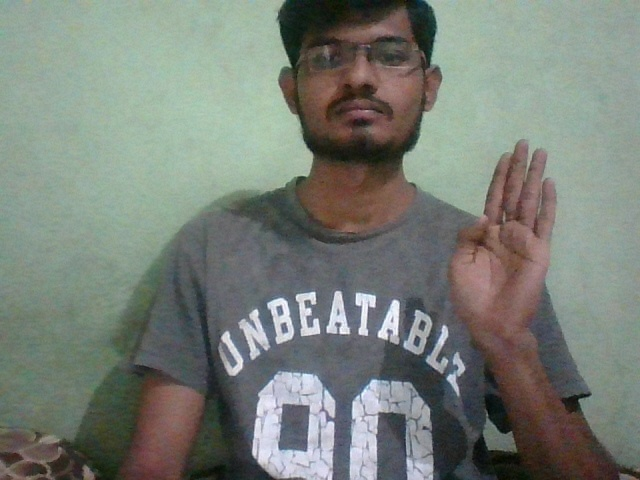Hello: (447, 138, 568, 334)
